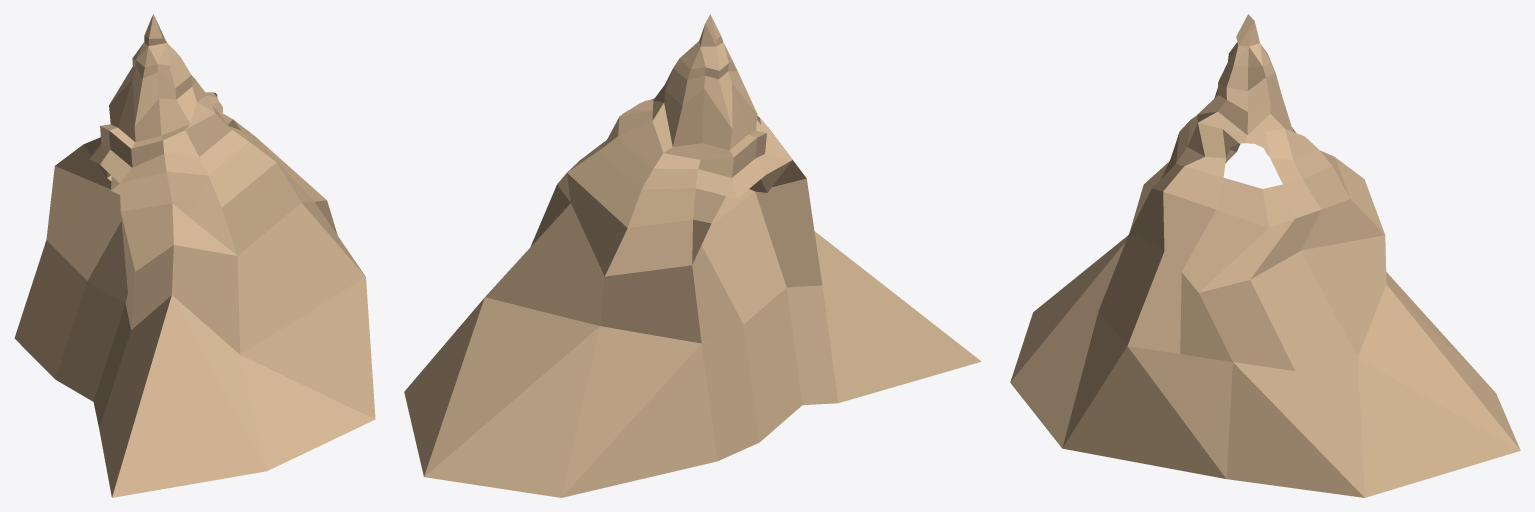
Rendered from Mountain4cave.glb.
3 renders of one model, left to right at view 1: azimuth 30°, elevation 25°; view 2: azimuth 150°, elevation 25°; view 3: azimuth 270°, elevation 25°, orthographic. The views are drawn at different scales.
Parts seen in each view (by area): view 1: Cube.001; view 2: Cube.001; view 3: Cube.001.
Part boxes in pixels (<box>): Cube.001: <box>14,14,375,497</box>; Cube.001: <box>404,14,981,497</box>; Cube.001: <box>1010,14,1520,497</box>.
Size of the model in its own units: 20.72 by 19.31 by 24.07.
